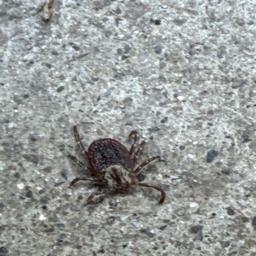Dermacentor variabilis: (66, 123, 172, 208)
